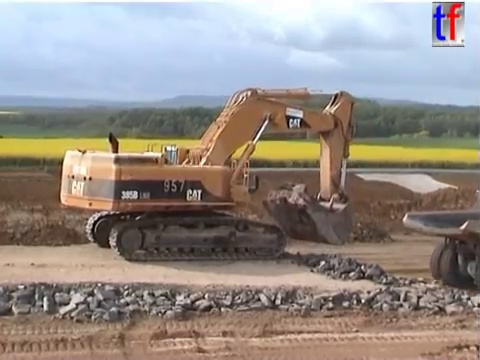excavator: (55, 84, 359, 264)
truck: (399, 205, 480, 295)
